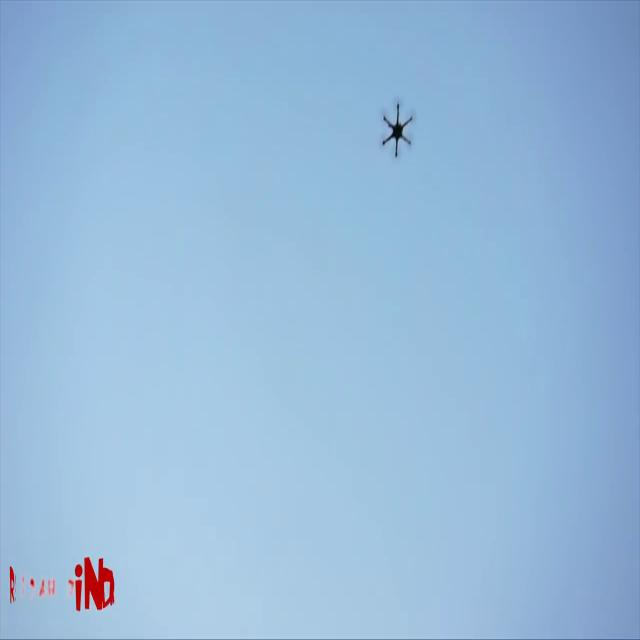drone: (366, 95, 421, 176)
